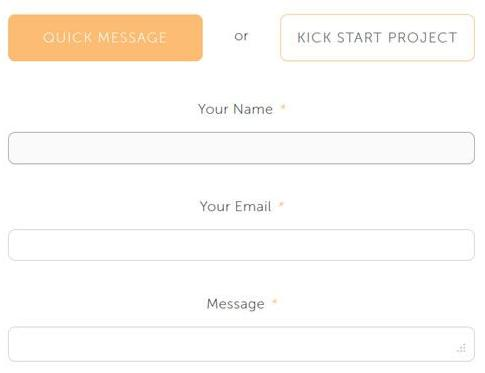button: (279, 13, 476, 62), (7, 13, 203, 62)
field: (8, 326, 475, 363), (7, 228, 476, 262), (7, 131, 475, 165)
field_with_label: (6, 296, 477, 365), (3, 102, 478, 168), (4, 200, 479, 265)
